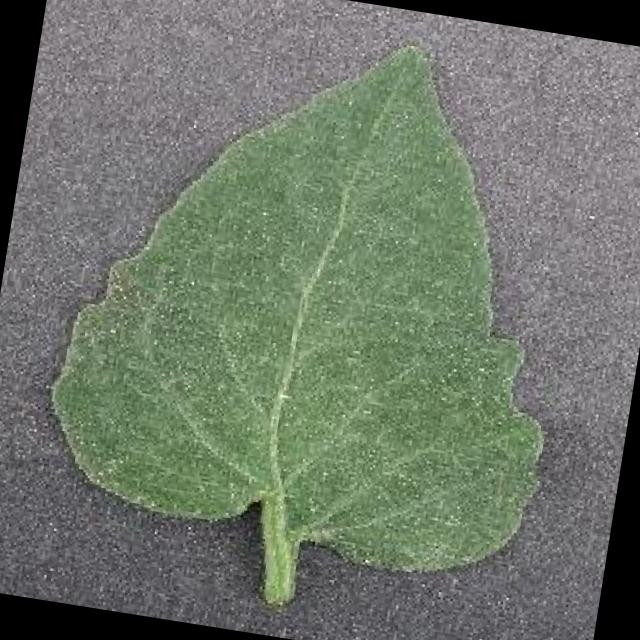Tomato_Healthy: (2, 0, 613, 611)
